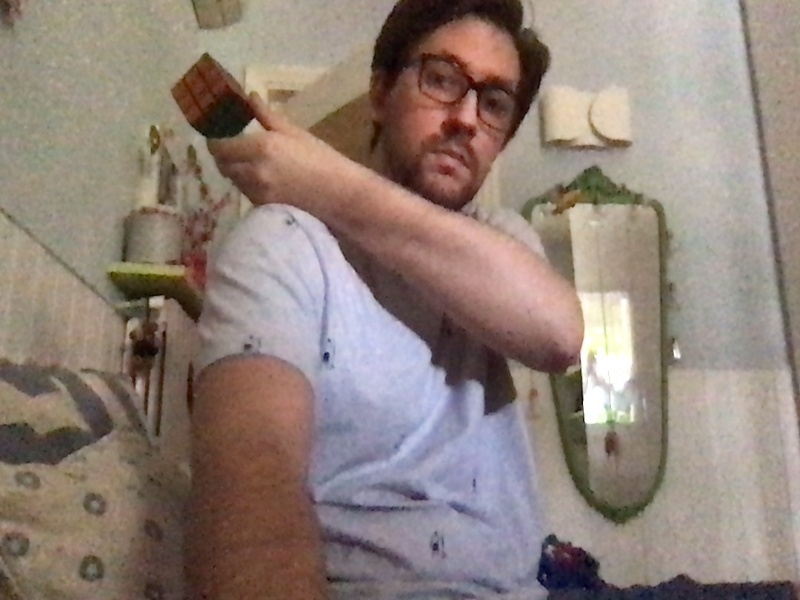rubik: (172, 53, 256, 139)
